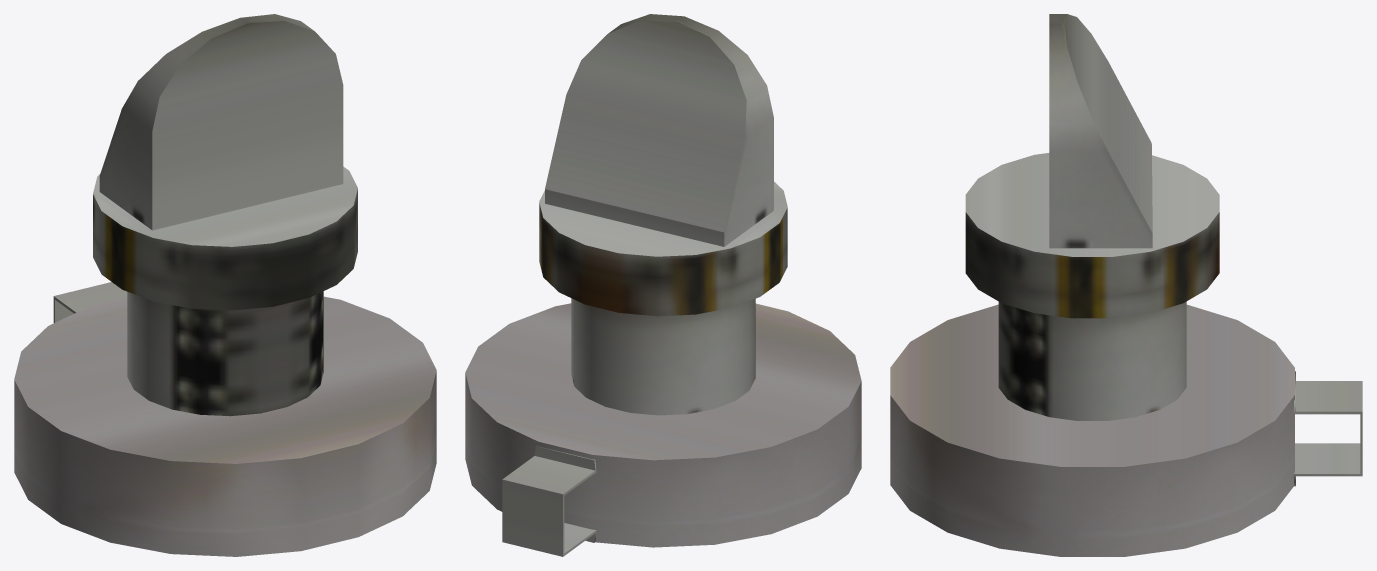
The model's file is mast_azimuth_link.dae.
3 renders of one model, left to right at view 1: azimuth 30°, elevation 25°; view 2: azimuth 150°, elevation 25°; view 3: azimuth 270°, elevation 25°, orthographic. The views are drawn at different scales.
Parts seen in each view (by area): view 1: mast_azimuth_link; view 2: mast_azimuth_link; view 3: mast_azimuth_link.
Part boxes in pixels (x1=…): mast_azimuth_link: x1=14, y1=14, x2=436, y2=556; mast_azimuth_link: x1=465, y1=14, x2=861, y2=556; mast_azimuth_link: x1=890, y1=14, x2=1362, y2=556.
Bounding box in the file's own units: 0.2321 × 0.271 × 0.2824.
1 material, 1 textured.
